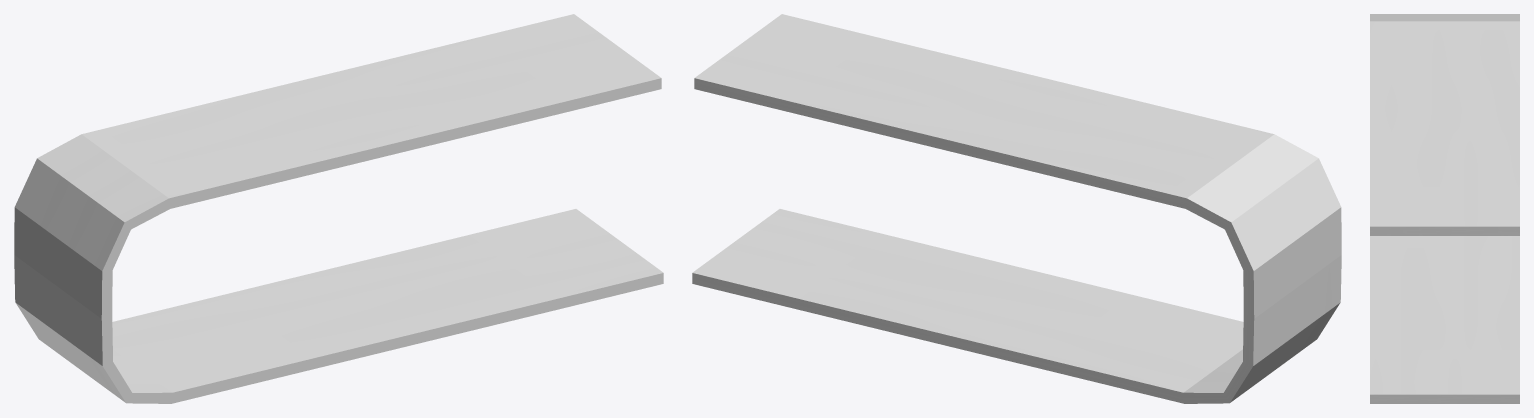
Rendered from Table_05_01.fbx.
3 renders of one model, left to right at view 1: azimuth 30°, elevation 25°; view 2: azimuth 150°, elevation 25°; view 3: azimuth 270°, elevation 25°, orthographic. The views are drawn at different scales.
Visible parts, largest first — view 1: Table_05_01; view 2: Table_05_01; view 3: Table_05_01.
Boxes of the visible parts, box(x1,y1,x2,y2) form: Table_05_01: box(14, 14, 663, 403); Table_05_01: box(692, 14, 1341, 403); Table_05_01: box(1370, 14, 1519, 403).
Size of the model in its own units: 2.29 by 0.8035 by 0.6187.
